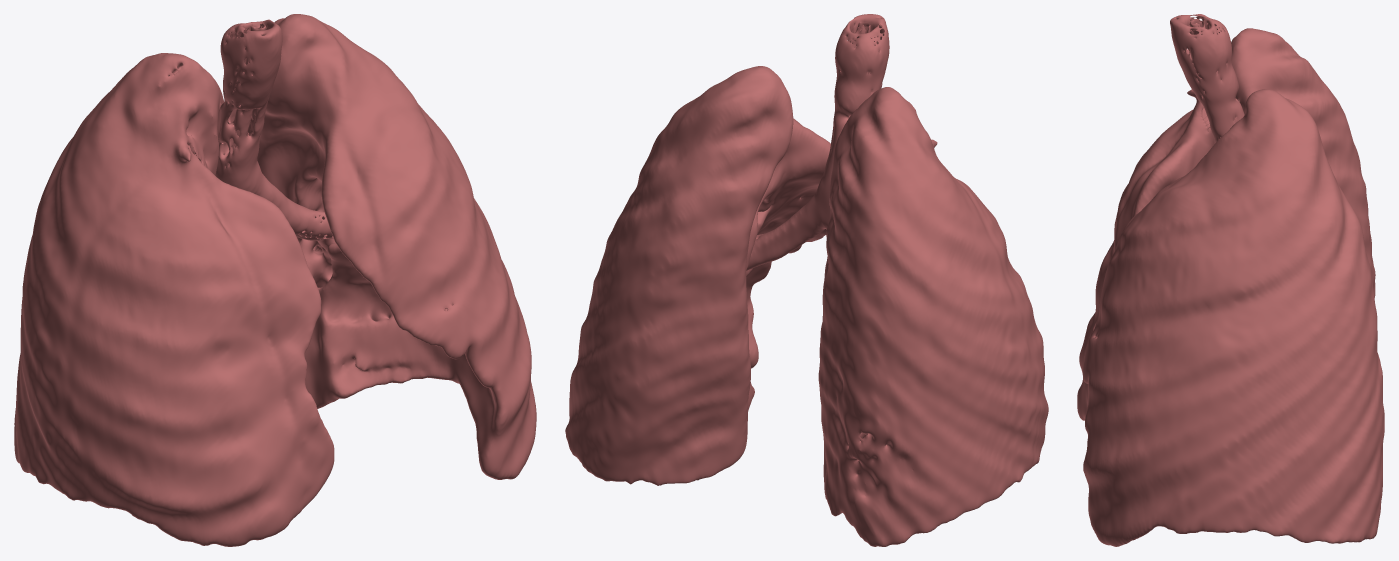
Rendered from LUNGS.glb.
3 renders of one model, left to right at view 1: azimuth 30°, elevation 25°; view 2: azimuth 150°, elevation 25°; view 3: azimuth 270°, elevation 25°, orthographic. The views are drawn at different scales.
Visible parts, largest first — view 1: Object_2, Object_4, Object_5, Object_7, Object_3, Object_6, Object_8, Object_9, Object_10; view 2: Object_3, Object_5, Object_4, Object_6, Object_2, Object_7, Object_8, Object_9, Object_10; view 3: Object_4, Object_5, Object_3, Object_6, Object_7, Object_9, Object_2, Object_8, Object_10.
Boxes of the visible parts, x1,y1,x2,y2 form: Object_2: (21, 14, 424, 546); Object_4: (16, 44, 535, 532); Object_5: (20, 80, 510, 413); Object_7: (31, 162, 526, 504); Object_3: (14, 15, 536, 534); Object_6: (30, 117, 498, 502); Object_8: (16, 316, 534, 539); Object_9: (14, 244, 536, 546); Object_10: (21, 207, 507, 380); Object_3: (568, 69, 1034, 533); Object_5: (584, 118, 1021, 546); Object_4: (565, 100, 1039, 544); Object_6: (627, 148, 1037, 546); Object_2: (708, 14, 1048, 499); Object_7: (584, 183, 1044, 438); Object_8: (568, 271, 1048, 517); Object_9: (565, 240, 1044, 544); Object_10: (593, 205, 1033, 389); Object_4: (1077, 67, 1377, 543); Object_5: (1100, 93, 1384, 523); Object_3: (1083, 31, 1380, 546); Object_6: (1089, 116, 1375, 392); Object_7: (1083, 161, 1384, 500); Object_9: (1077, 261, 1382, 545); Object_2: (1077, 14, 1284, 420); Object_8: (1077, 316, 1382, 534); Object_10: (1088, 202, 1377, 403).
Size of the model in its own units: 252 by 243 by 156.
